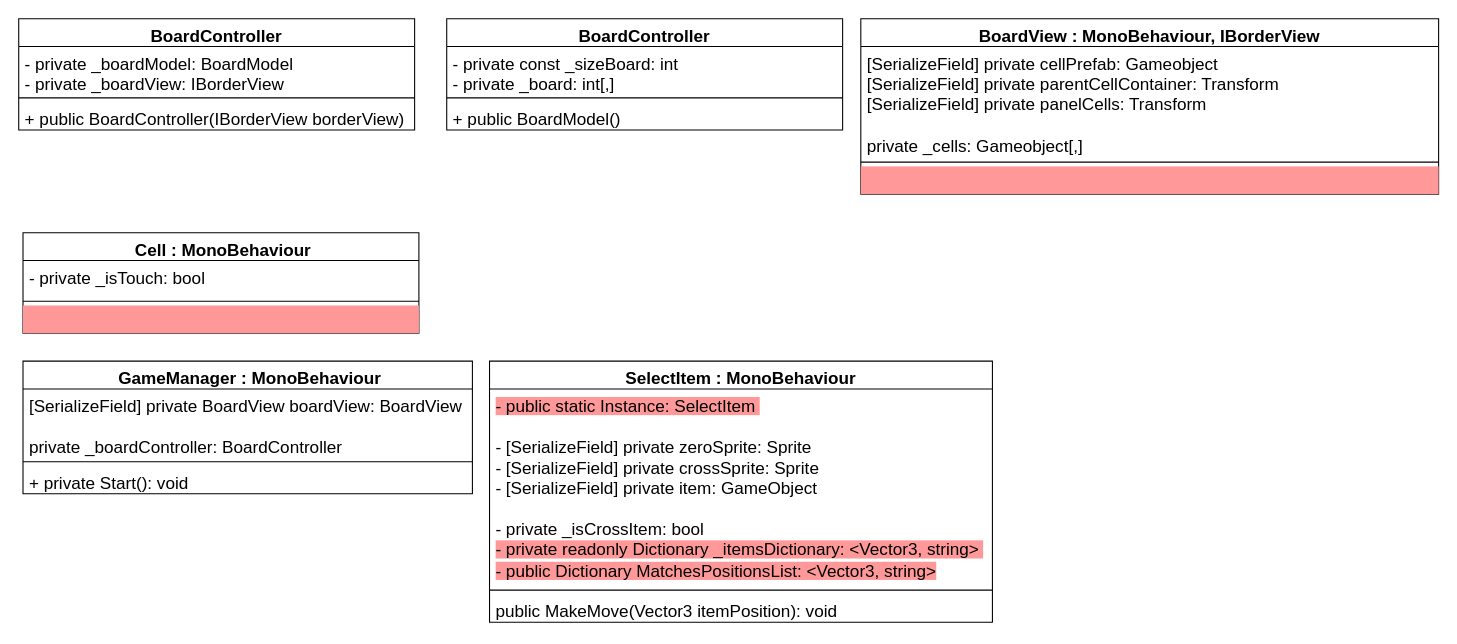
Image size: 1457x644. Some labels were removed from this diagram. Each missing label, with the centre of its shape:
+ private OnMouseDown(): void: pixel 220 319
+ public RenderBoard(int size): void: pixel 1149 180
